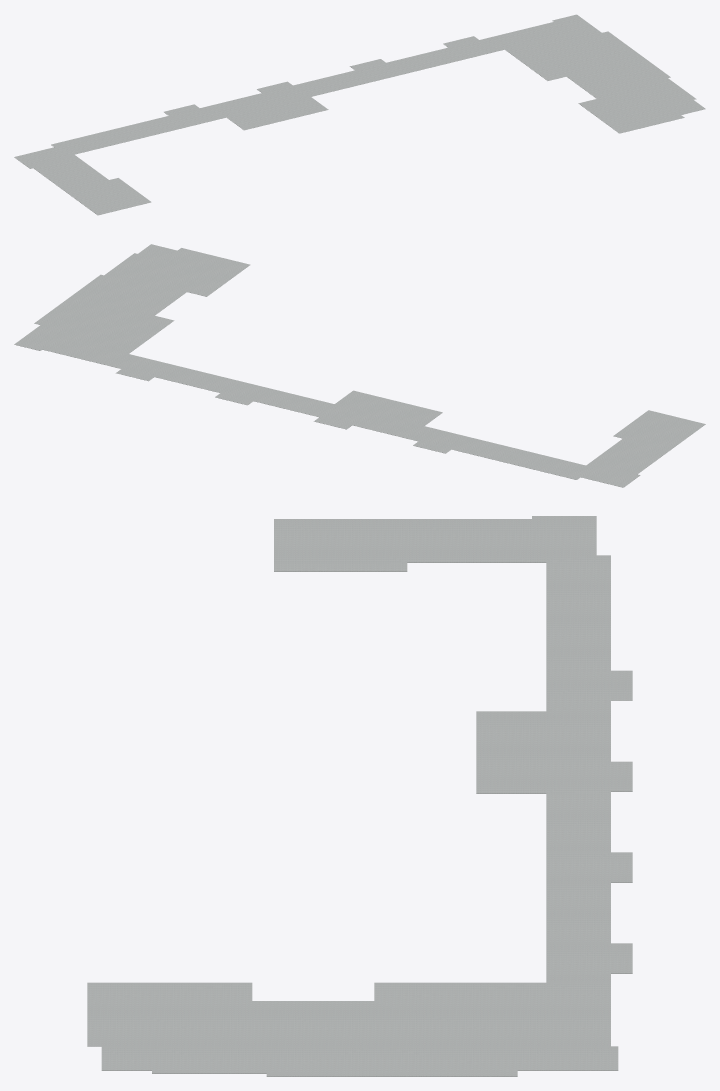
3 views of the same model, one above another, from view 1: azimuth 30°, elevation 25°; view 2: azimuth 150°, elevation 25°; view 3: azimuth 270°, elevation 25° (orthographic). The views are drawn at different scales.
Parts seen in each view (by area): view 1: Plane222; view 2: Plane222; view 3: Plane222.
Part boxes in pixels (box(x1,y1,x2,y2)): Plane222: box(14, 14, 705, 215); Plane222: box(14, 244, 705, 487); Plane222: box(87, 516, 632, 1076).
Bounding box in the file's own units: 3.41 × 0.000737 × 1.4.
Materials: 1 (1 with a texture image).
